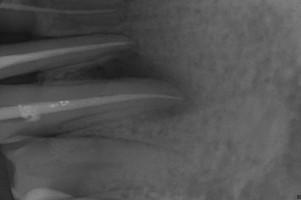Furcation Involvement: (63, 51, 202, 118)
